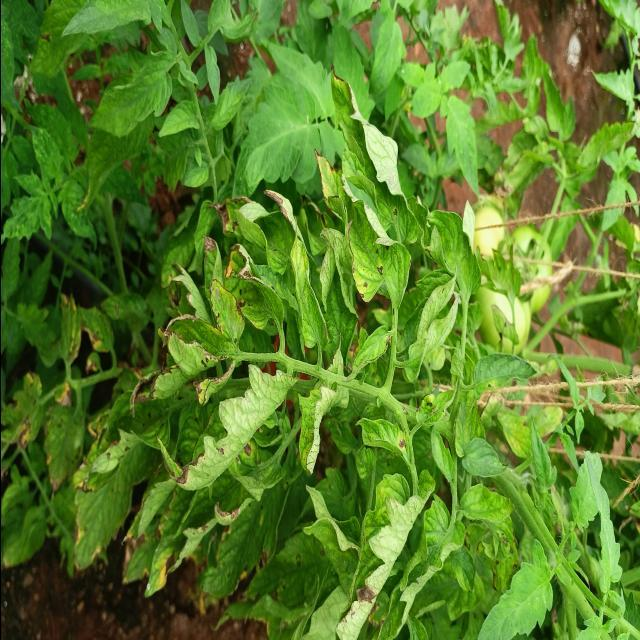Tomato mosaic virus leaf: (126, 278, 244, 423), (311, 142, 413, 304), (155, 426, 237, 546), (200, 192, 264, 278), (334, 546, 388, 640), (228, 430, 274, 502), (352, 414, 408, 466), (412, 385, 456, 429)
